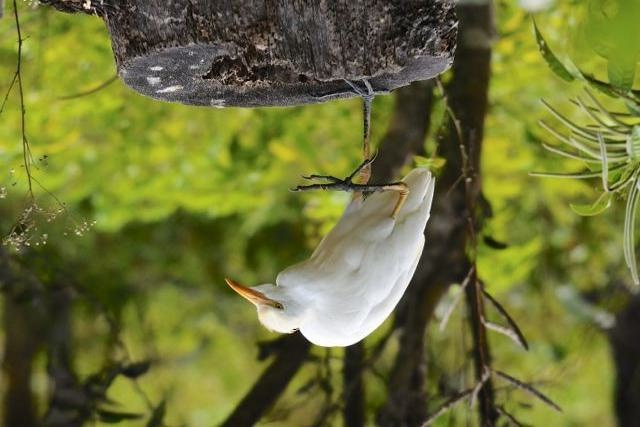egret: (220, 143, 440, 355)
